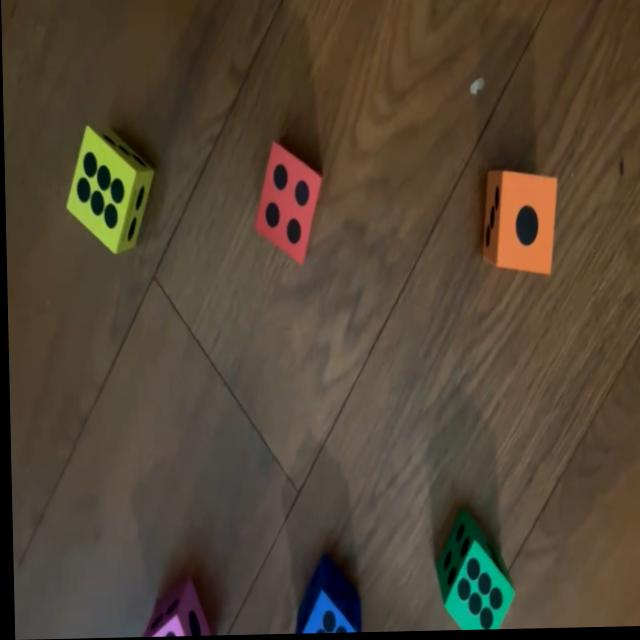cube: (431, 513, 511, 633), (252, 141, 321, 269), (290, 558, 357, 635)
